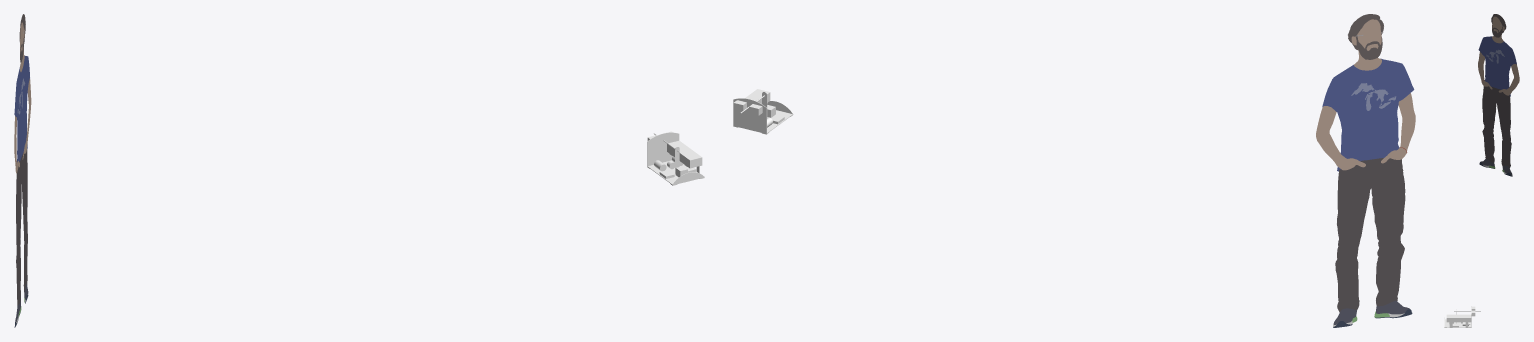
3 renders of one model, left to right at view 1: azimuth 30°, elevation 25°; view 2: azimuth 150°, elevation 25°; view 3: azimuth 270°, elevation 25°, orthographic. The views are drawn at different scales.
Parts seen in each view (by area): view 1: Marc (×2), SketchUp; view 2: Marc (×6), SketchUp; view 3: Marc (×9), SketchUp.
Boxes of the visible parts, left/top/right/bottom form: Marc (×2): left=14, top=56, right=29, bottom=305; SketchUp: left=647, top=132, right=704, bottom=185; Marc (×6): left=1316, top=14, right=1415, bottom=312; SketchUp: left=733, top=89, right=793, bottom=134; Marc (×9): left=1478, top=14, right=1519, bottom=167; SketchUp: left=1444, top=306, right=1471, bottom=327.
Bounding box in the file's own units: 167 × 31.11 × 71.73.
